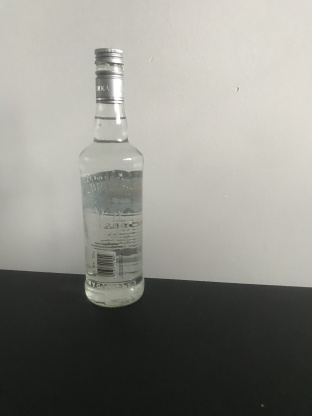nakretka: (93, 48, 125, 104)
